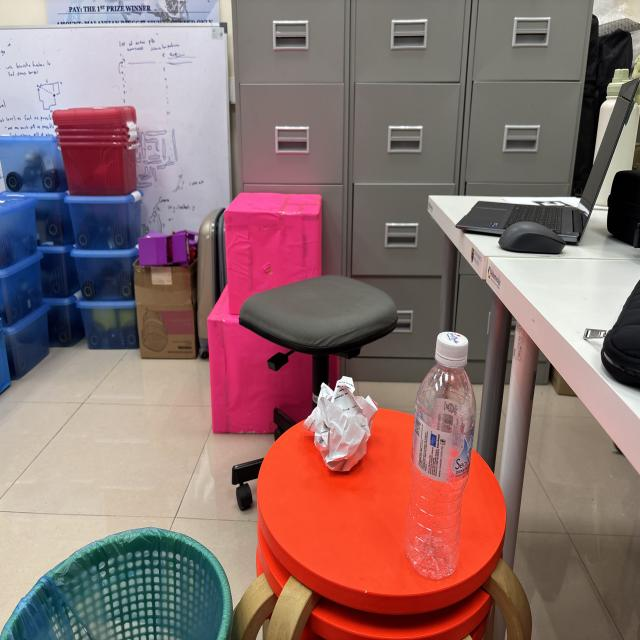crumpled_paper: (302, 370, 380, 480)
plastic_bottle: (401, 325, 481, 587)
